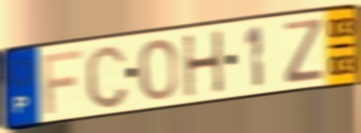1: (244, 24, 266, 89)
C: (83, 42, 130, 111)
F: (40, 48, 84, 117)
H: (181, 27, 226, 100)
O: (136, 37, 179, 103)
Z: (283, 16, 325, 86)
